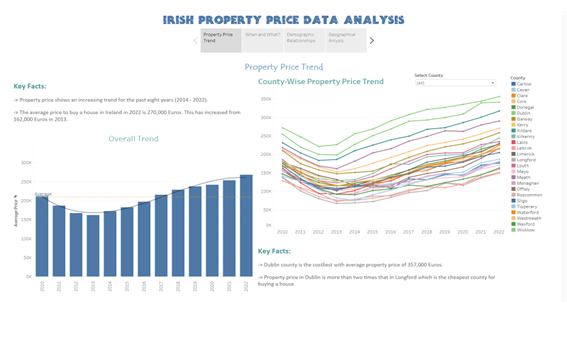

Layout of this report page (visuals, bound fields, positions):
{"tool":"tableau","page":{"name":"Dashboard 1","canvas":[1000,1000],"units":"permille","ordinal":0},"visuals":[{"type":"title","box":[4.9,9.3,990.2,55.8]},{"type":"filter","title":"County-Wise Trend","param":"[federated.07a3ll50a723xf15cofd61t04h0r].[none:County:nk]","box":[738,58.1,150.1,88.3]},{"type":"text","box":[4.9,65,437.8,235.7]},{"type":"worksheet","title":"County-Wise Trend","mark":"Line","rows":["Price"],"cols":["Date of Sale"],"box":[442.7,65,454,670.3]},{"type":"legend","title":"County-Wise Trend","param":"[federated.07a3ll50a723xf15cofd61t04h0r].[none:County:nk]","box":[896.7,65,98.4,669]},{"type":"worksheet","title":"Price Trend","mark":"Bar","rows":["Price"],"cols":["Date of Sale"],"box":[4.9,300.8,437.8,689.9]},{"type":"text","box":[442.7,735.4,454,255.3]}]}

Visuals, with their boxes on the dashboard's canvas, which has no fixed pixel size, in thousandths of its width and height (x1, y1, x2, y2). These are canvas units, not pixel positions in the 567x337 screenshot, which may show the page scaled, cropped or inside an application window:
title: locate(5, 9, 995, 65)
"County-Wise Trend" filter: locate(738, 58, 888, 146)
text: locate(5, 65, 443, 301)
"County-Wise Trend" worksheet (Line marks): locate(443, 65, 897, 735)
"County-Wise Trend" legend: locate(897, 65, 995, 734)
"Price Trend" worksheet (Bar marks): locate(5, 301, 443, 991)
text: locate(443, 735, 897, 991)
